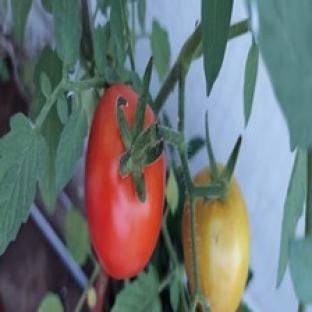Tomato: (85, 84, 165, 278), (195, 179, 249, 311)
